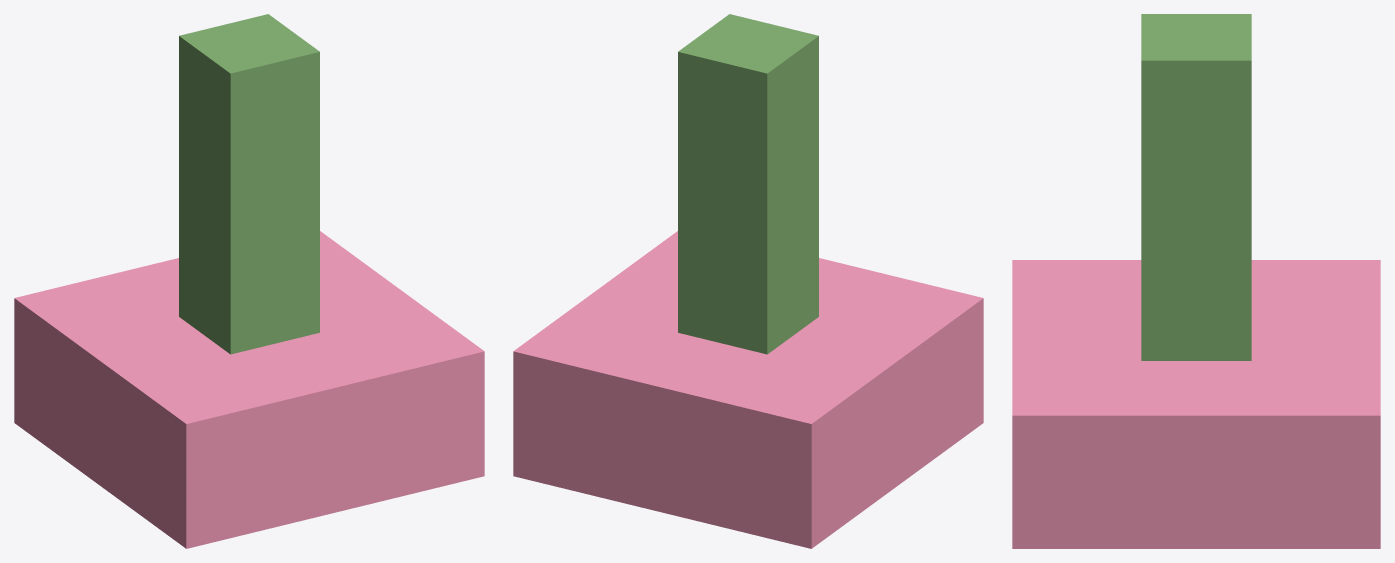
File: Item_DS_Herb_ZipVine.glb
3 views of the same model, side by side, from view 1: azimuth 30°, elevation 25°; view 2: azimuth 150°, elevation 25°; view 3: azimuth 270°, elevation 25° (orthographic). The views are drawn at different scales.
Visible parts, largest first — view 1: Item_DS_Herb_ZipVine; view 2: Item_DS_Herb_ZipVine; view 3: Item_DS_Herb_ZipVine.
Boxes of the visible parts, box(x1,y1,x2,y2) form: Item_DS_Herb_ZipVine: box(14, 14, 484, 548); Item_DS_Herb_ZipVine: box(513, 14, 983, 548); Item_DS_Herb_ZipVine: box(1012, 14, 1380, 548).
Bounding box in the file's own units: 0.2 × 0.26 × 0.2.
